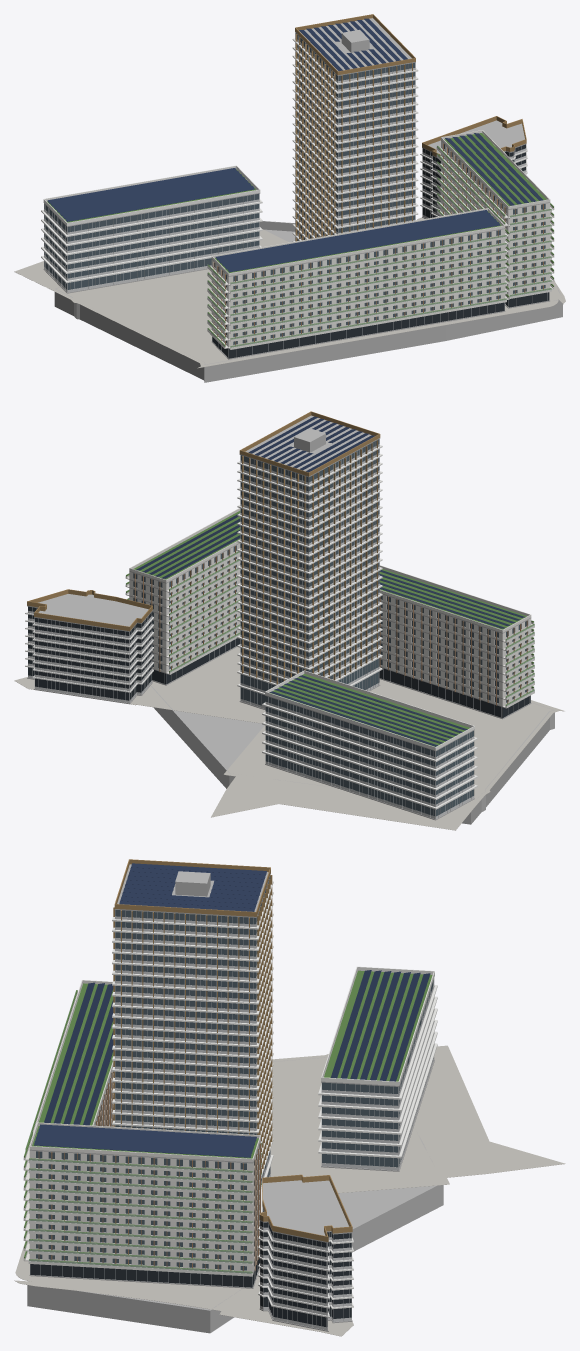
3 renders of one model, top to bottom at view 1: azimuth 30°, elevation 25°; view 2: azimuth 150°, elevation 25°; view 3: azimuth 270°, elevation 25°, orthographic. The views are drawn at different scales.
Visible parts, largest first — view 1: Site, S PV array, O PV array, S-GF curtain wall, U-B1 ext wall 5, H PV array, R PV array, U-B2 ext wall 5, S parapet, H roof slab, R green roof, O parapet (+78 smaller); view 2: Site, O green roof, O PV array, U-B2 slab, E roof slab, H PV array, S green roof, H roof slab, S PV array, O parapet, R PV array, S-GF curtain wall (+68 smaller); view 3: Site, O PV array, H PV array, R PV array, S PV array, E roof slab, O green roof, S green roof, R-GF curtain wall, U-B2 slab, U-B2 ext wall 7, U-B1 ext wall 7 (+64 smaller).
Boxes of the visible parts, x1,y1,x2,y2 form: Site: [14, 217, 565, 368]; S PV array: [215, 210, 500, 272]; O PV array: [47, 168, 254, 221]; S-GF curtain wall: [212, 302, 504, 358]; U-B1 ext wall 5: [204, 332, 445, 381]; H PV array: [299, 18, 407, 70]; R PV array: [445, 133, 543, 205]; U-B2 ext wall 5: [204, 323, 445, 372]; S parapet: [211, 208, 505, 275]; H roof slab: [295, 18, 415, 75]; R green roof: [444, 133, 546, 206]; O parapet: [43, 165, 260, 226]; Site: [14, 647, 564, 830]; O green roof: [270, 674, 469, 746]; O PV array: [269, 675, 467, 746]; U-B2 slab: [163, 709, 554, 815]; E roof slab: [27, 594, 152, 631]; H PV array: [248, 416, 374, 472]; S green roof: [379, 569, 526, 629]; H roof slab: [239, 415, 380, 477]; S PV array: [379, 570, 525, 628]; O parapet: [265, 670, 474, 750]; R PV array: [136, 513, 240, 578]; S-GF curtain wall: [379, 667, 530, 717]; Site: [14, 1045, 565, 1336]; O PV array: [330, 970, 430, 1081]; H PV array: [119, 863, 266, 911]; R PV array: [34, 1124, 256, 1157]; S PV array: [44, 982, 113, 1125]; E roof slab: [259, 1180, 352, 1242]; O green roof: [324, 970, 432, 1081]; S green roof: [38, 983, 113, 1125]; R-GF curtain wall: [30, 1258, 259, 1287]; U-B2 slab: [27, 1185, 443, 1321]; U-B2 ext wall 7: [27, 1285, 210, 1320]; U-B1 ext wall 7: [27, 1295, 210, 1332].
Size of the model in its own units: 192 by 105 by 154.
